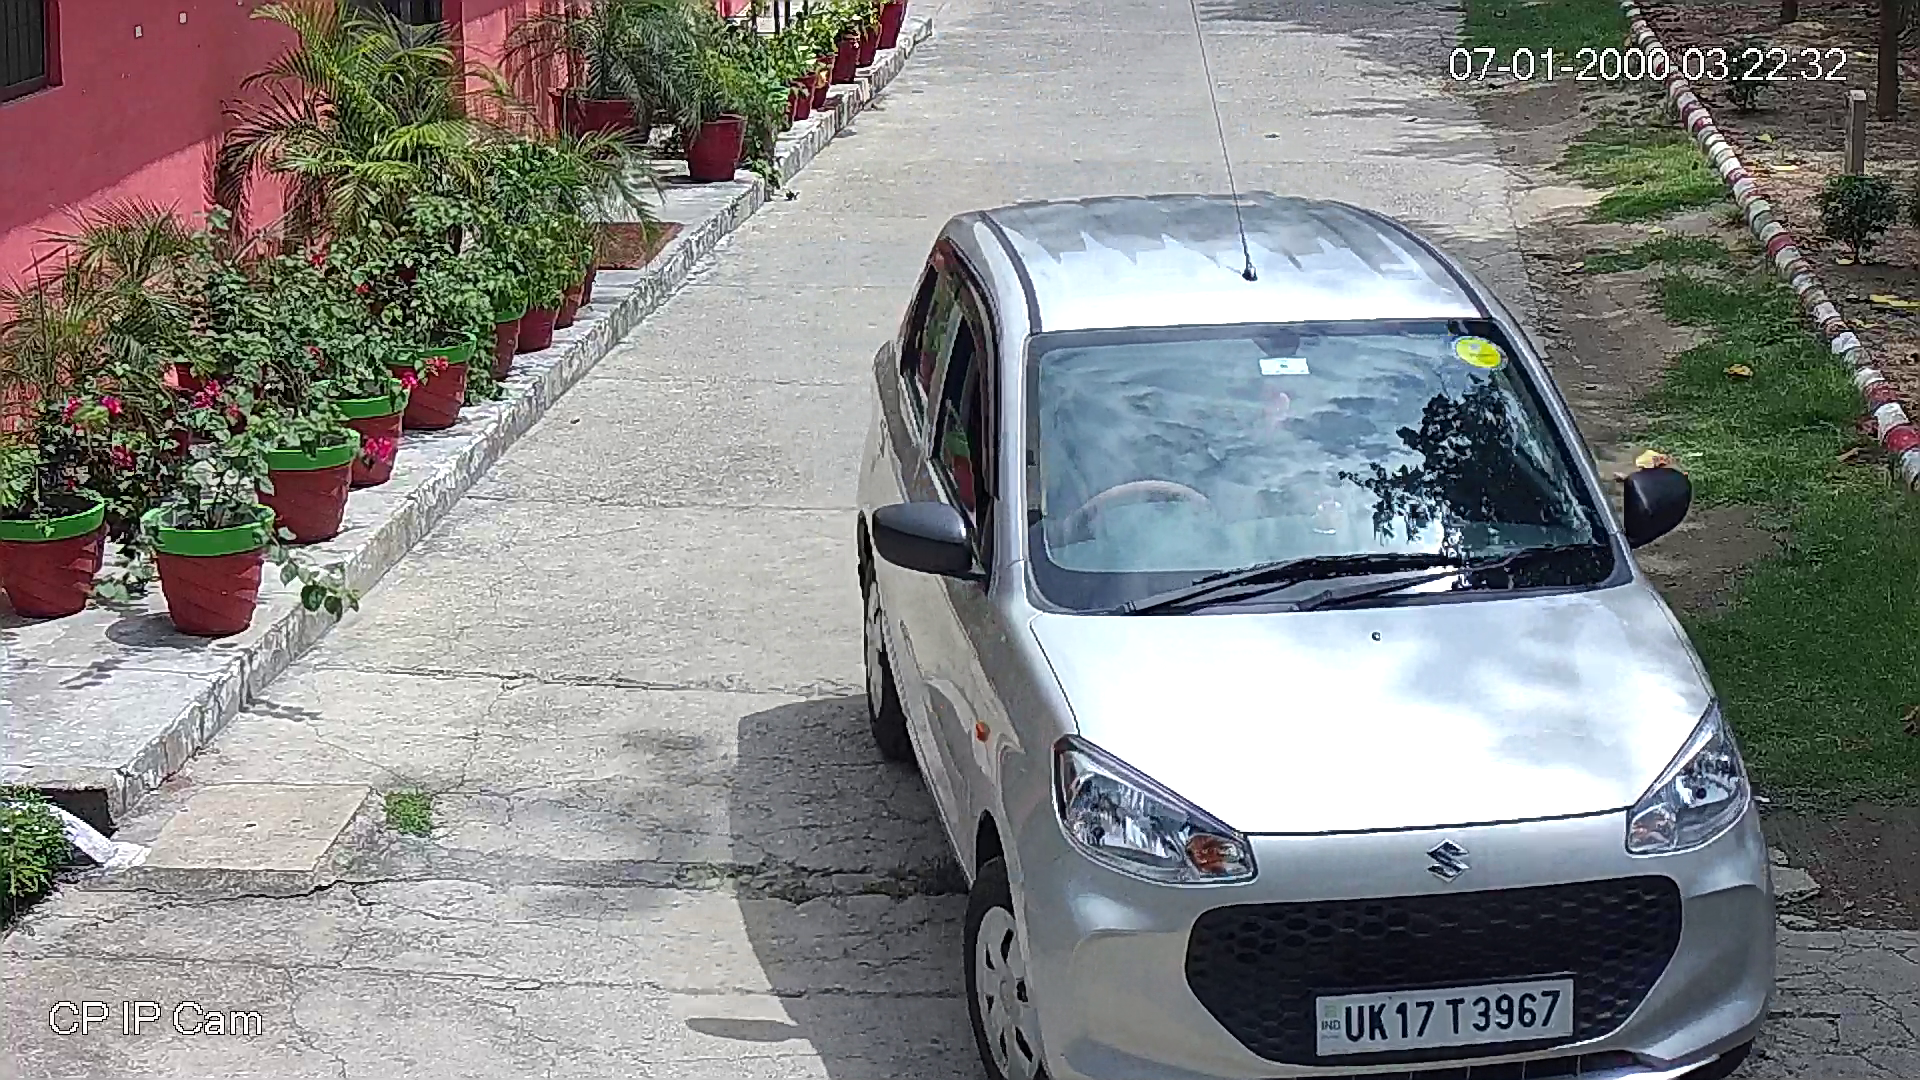plate: (1320, 975, 1576, 1050)
